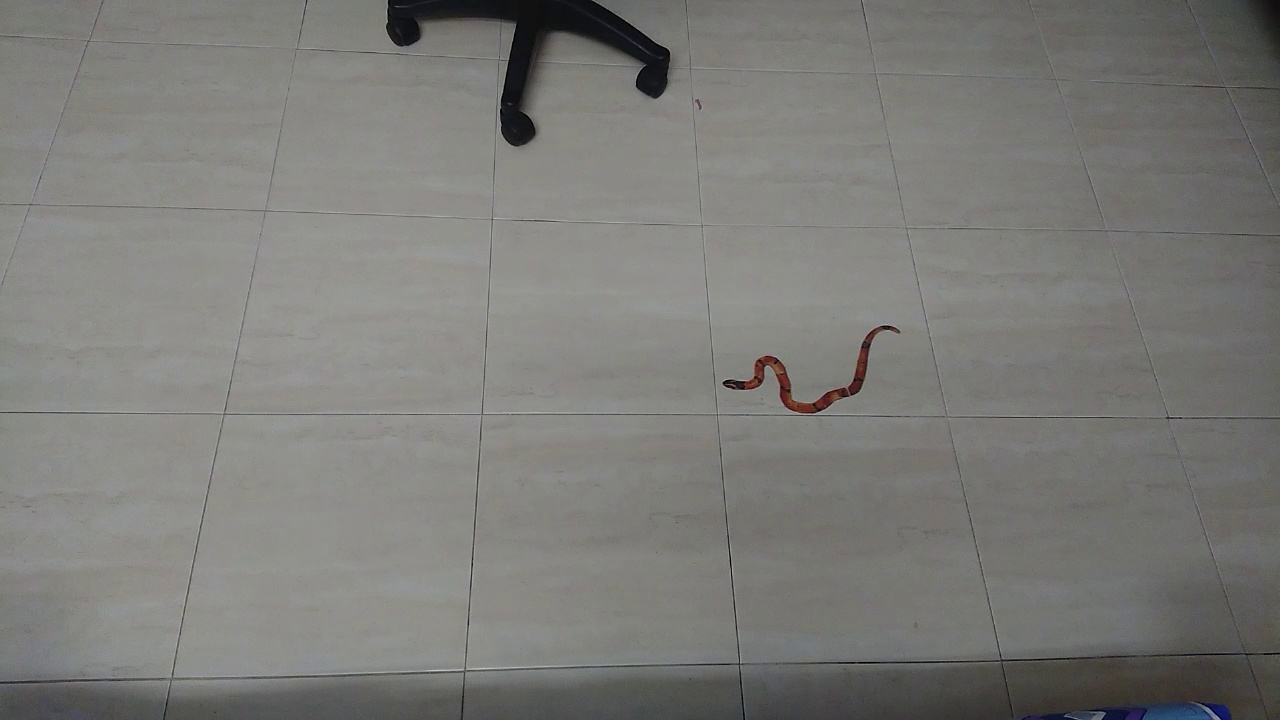snake: (700, 306, 917, 432)
